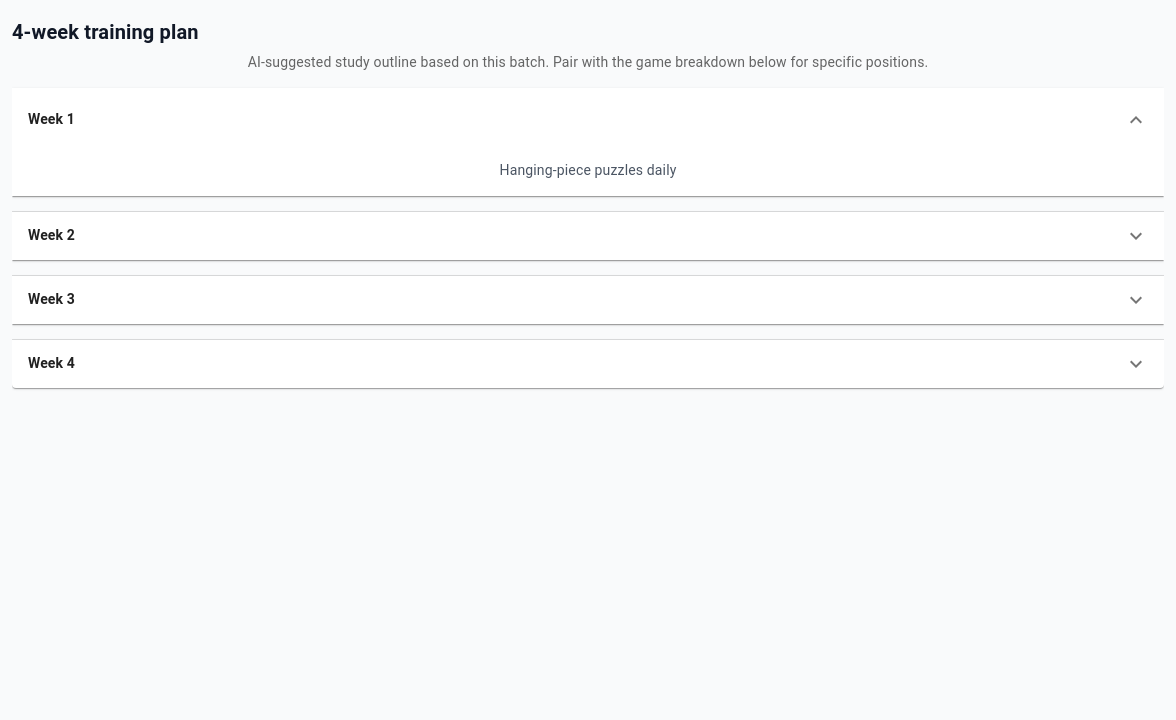
it: TrainingPlan › renders week accordions with plan copy
The width and height of the screenshot is (1176, 720).
expect the heading "4-week training plan" is shown: met, box [12,16,199,48]
expect the text "Hanging-piece puzzles daily" is shown: met, box [500,162,676,178]
Click the button "Week 2" at (51, 235), box [12,212,1164,260]
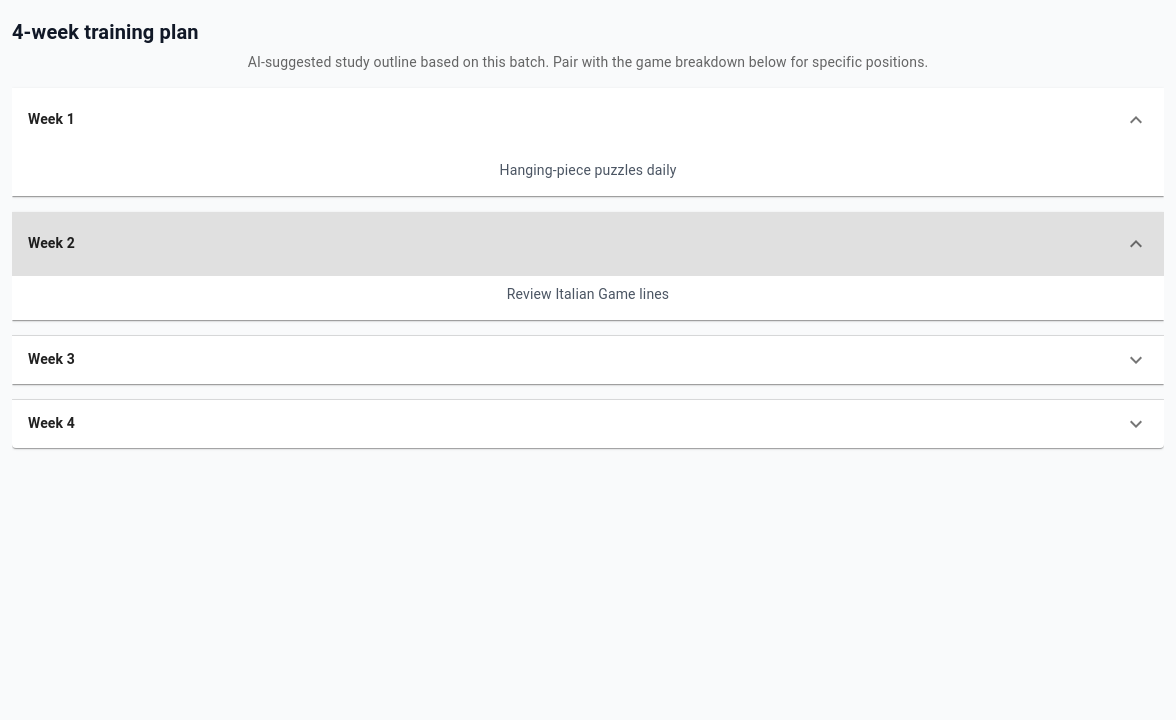
expect the text "Review Italian Game lines" is shown: met, box [507,286,669,302]
Click the button "Week 4" at (51, 423), box [12,400,1164,448]
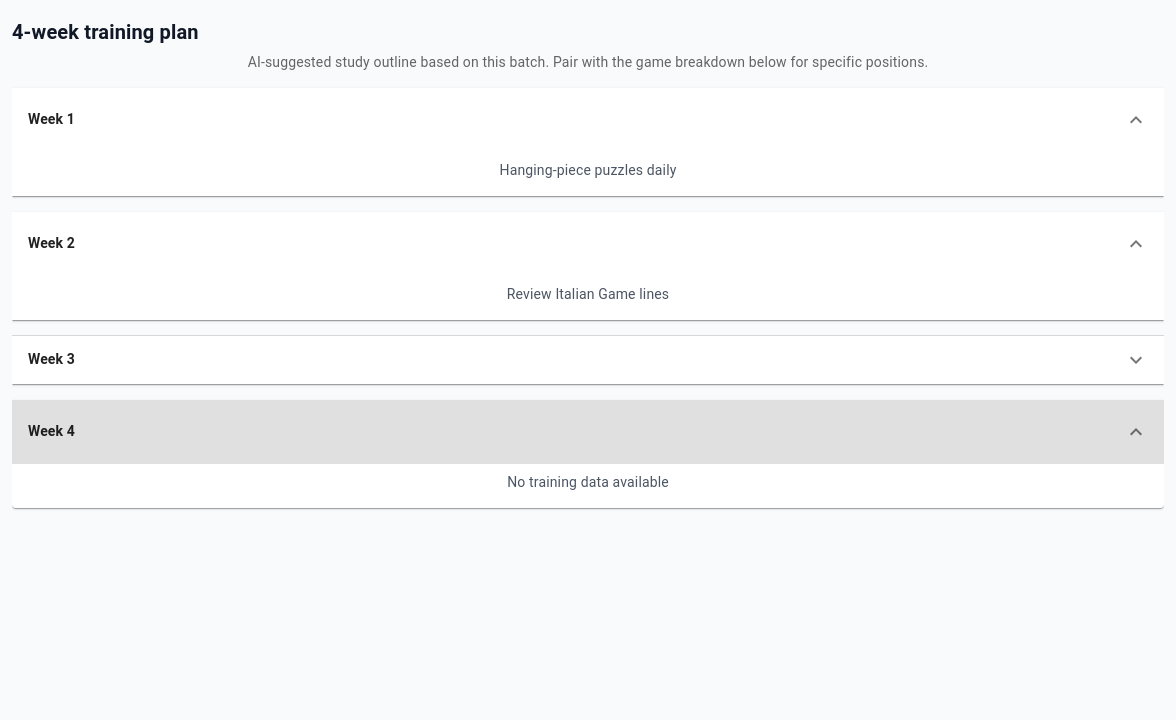
expect the text "No training data available" is shown: met, box [507,474,669,490]
